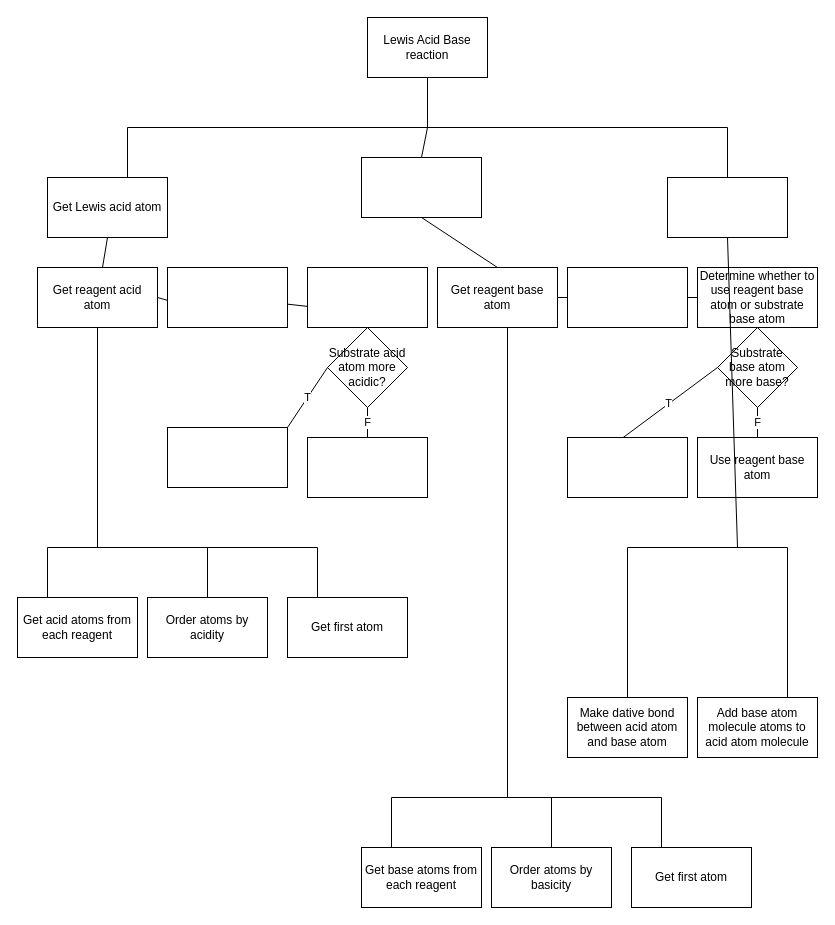
Some shapes in this 835 by 925 pixel diagram are drawn without their labels. The box of each missing label's shape, as (x1, y1, x2, y2) in pixels:
Bond Lewis base atom to Lewis acid atom: (666, 176, 788, 238)
Determine whether to use reagent acid atom or substrate acid atom: (306, 266, 428, 328)
Get Lewis base atom: (360, 156, 482, 218)
Get substrate acid atom: (166, 266, 288, 328)
Get substrate base atom: (566, 266, 688, 328)
Use reagent acid atom: (306, 436, 428, 498)
Use substrate acid atom: (166, 426, 288, 488)
Use substrate base atom: (566, 436, 688, 498)
